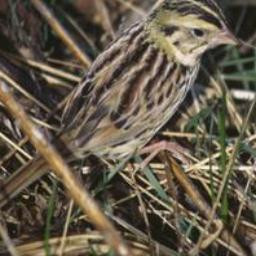Sparrow: (0, 0, 244, 219)
